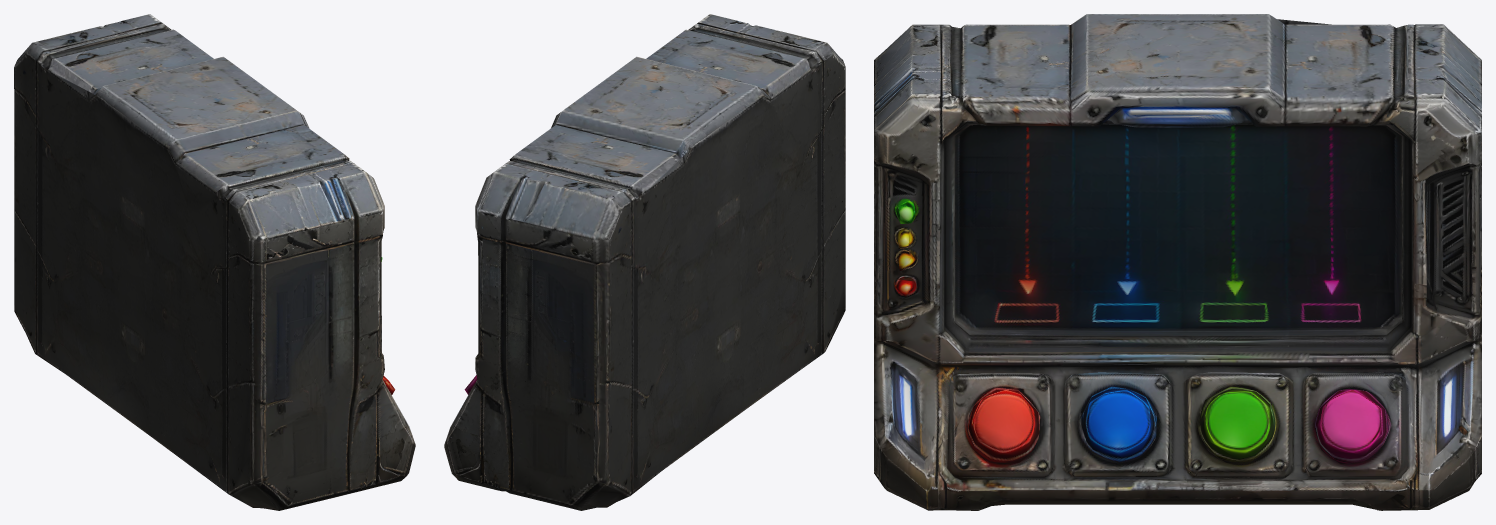
The model's file is futuristic+control+panel+3d+model.obj.
3 renders of one model, left to right at view 1: azimuth 30°, elevation 25°; view 2: azimuth 150°, elevation 25°; view 3: azimuth 270°, elevation 25°, orthographic. The views are drawn at different scales.
Parts seen in each view (by area): view 1: tripo_node_d97faddf-47b1-42f6-bc6b-7def27d2cbb5; view 2: tripo_node_d97faddf-47b1-42f6-bc6b-7def27d2cbb5; view 3: tripo_node_d97faddf-47b1-42f6-bc6b-7def27d2cbb5.
Boxes of the visible parts, bbox=[...] form: tripo_node_d97faddf-47b1-42f6-bc6b-7def27d2cbb5: bbox=[14, 14, 415, 510]; tripo_node_d97faddf-47b1-42f6-bc6b-7def27d2cbb5: bbox=[444, 14, 845, 510]; tripo_node_d97faddf-47b1-42f6-bc6b-7def27d2cbb5: bbox=[874, 14, 1481, 510].
Size of the model in its own units: 0.44 by 0.7244 by 0.9997.
1 material, 1 textured.
